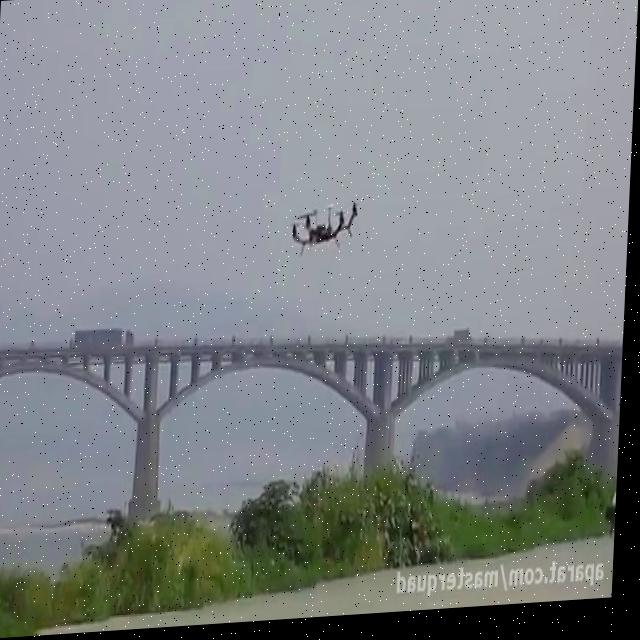drone: (288, 196, 364, 263)
